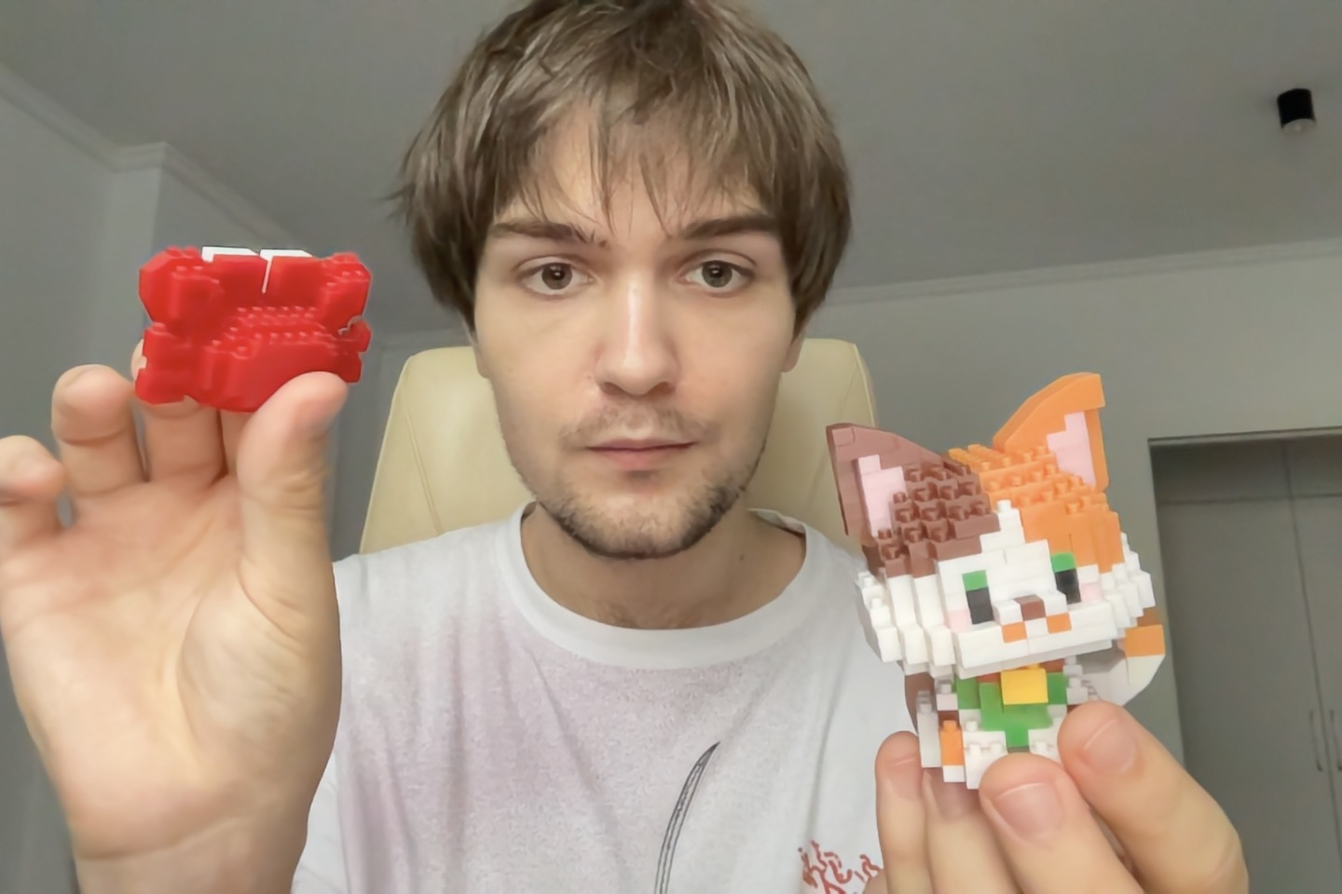cat: (802, 365, 1177, 796)
crab: (126, 232, 379, 415)
